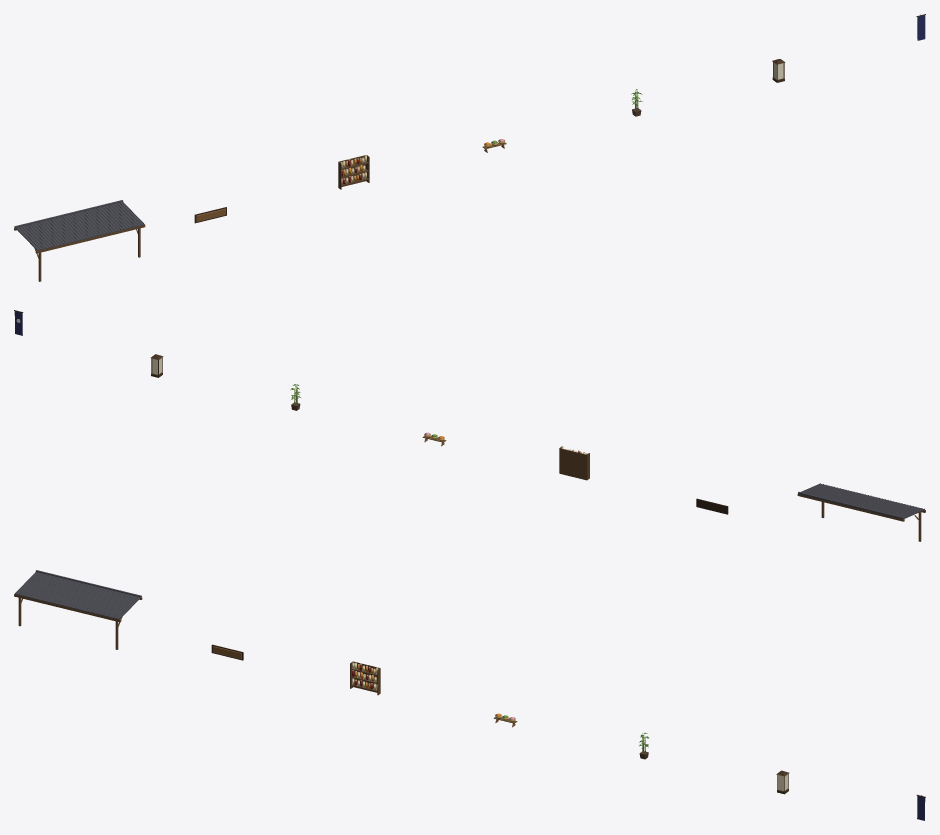
Rendered from japan_kit21_mikan_front.fbx.
The picture shows the model from 3 angles, top to bottom: view 1: azimuth 30°, elevation 25°; view 2: azimuth 150°, elevation 25°; view 3: azimuth 330°, elevation 25°; orthographic projection. The views are drawn at different scales.
Parts seen in each view (by area): view 1: Awn_Tile, Shelf_Wood; view 2: Awn_Tile, Shelf_Wood; view 3: Awn_Tile, Awn_Wood, Shelf_Wood.
Boxes of the visible parts, left/top/right/bottom form: Awn_Tile: left=14, top=200, right=144, bottom=250; Shelf_Wood: left=338, top=155, right=369, bottom=189; Awn_Tile: left=798, top=483, right=924, bottom=519; Shelf_Wood: left=559, top=446, right=589, bottom=480; Awn_Tile: left=15, top=570, right=141, bottom=619; Awn_Wood: left=14, top=594, right=142, bottom=649; Shelf_Wood: left=350, top=661, right=380, bottom=695.
Bounding box in the file's own units: 257 × 10.9 × 12.62.
